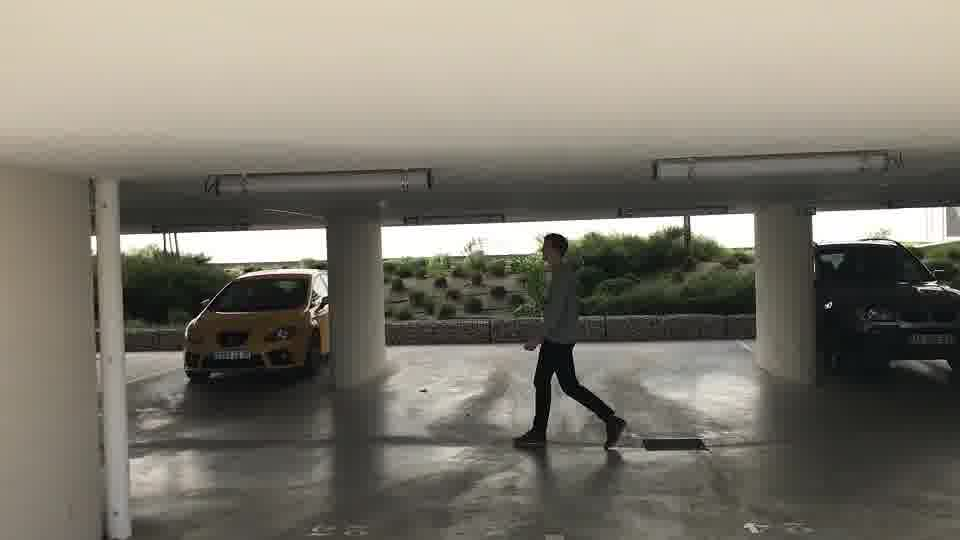jugador: (497, 229, 634, 459)
